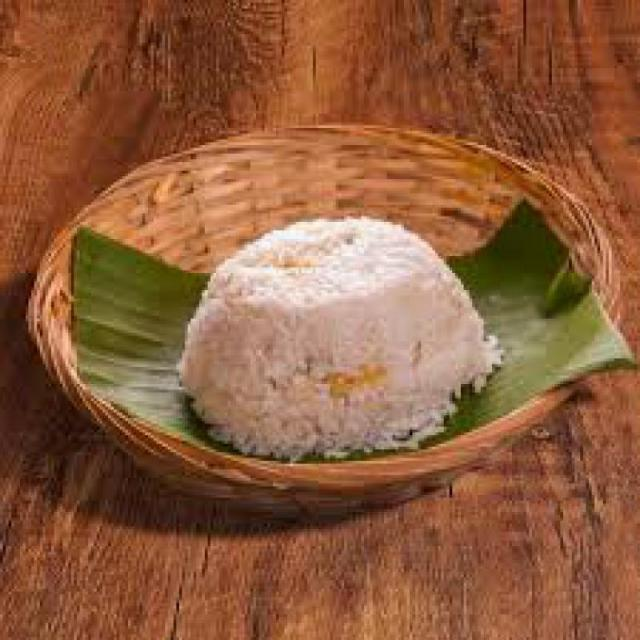rice: (179, 217, 504, 460)
